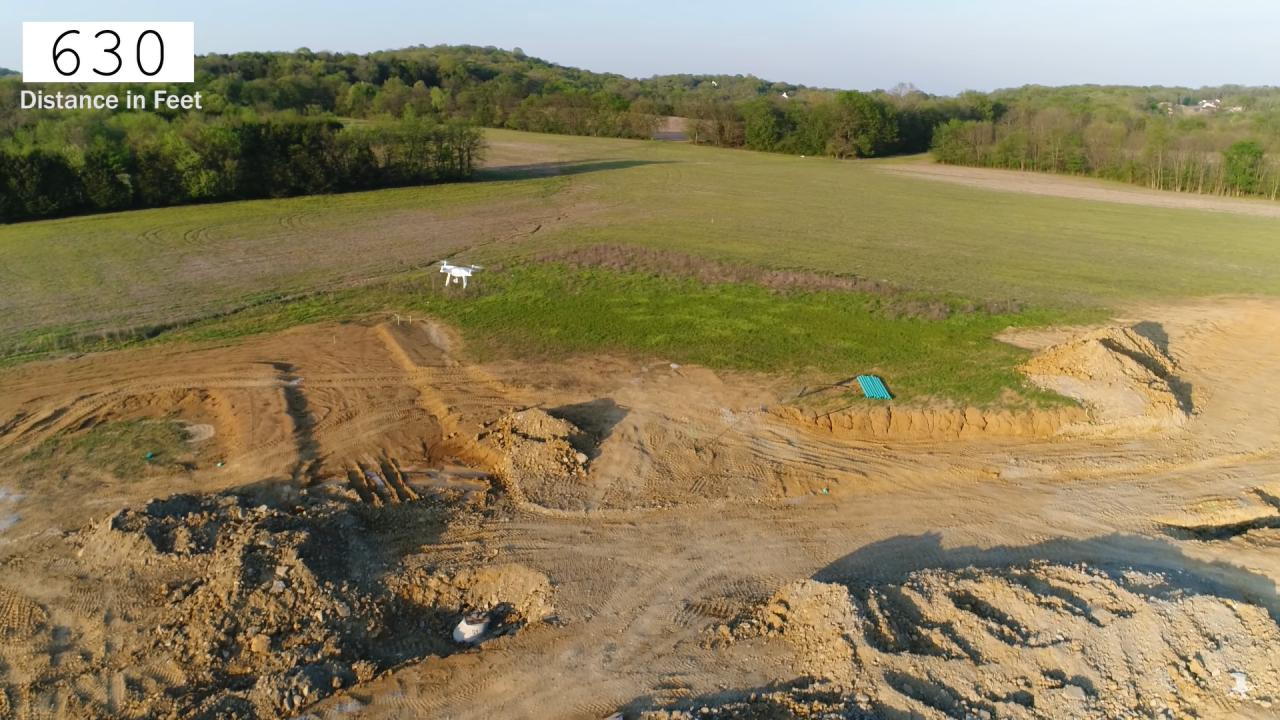Drone: (427, 251, 489, 297)
